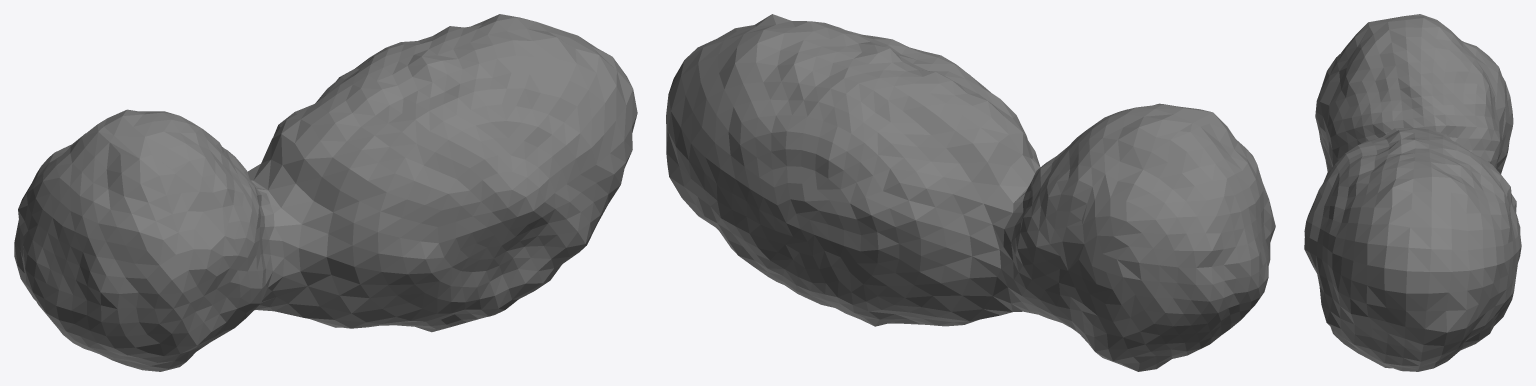
File: HW1_Asteroid.glb
3 renders of one model, left to right at view 1: azimuth 30°, elevation 25°; view 2: azimuth 150°, elevation 25°; view 3: azimuth 270°, elevation 25°, orthographic. The views are drawn at different scales.
Bounding box in the file's own units: 0.512 × 0.2222 × 0.2023.
Materials: 1 (1 with a texture image).
